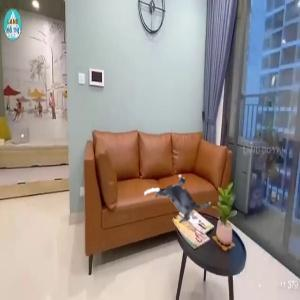drone: (146, 167, 214, 235)
